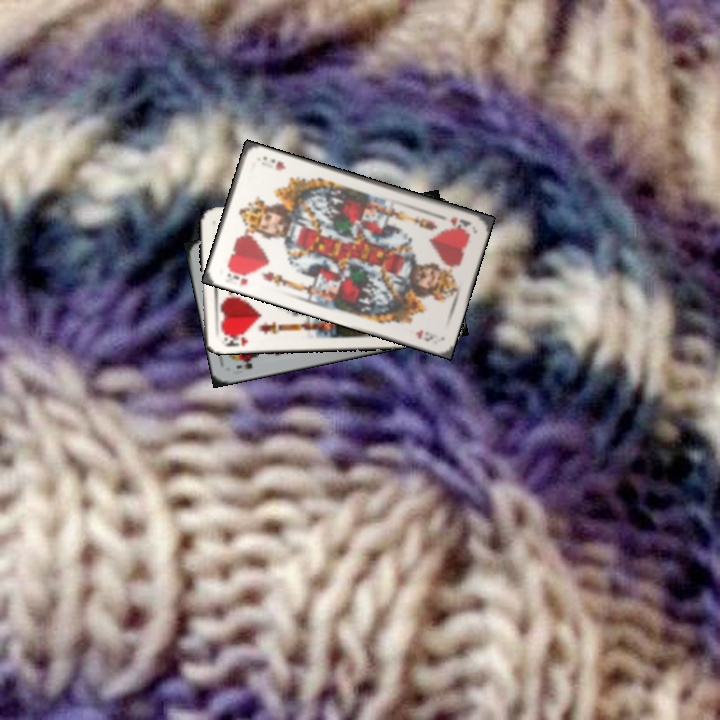HK: (222, 264, 253, 288), (220, 329, 250, 348), (447, 213, 474, 233)
SK: (232, 355, 255, 372)
